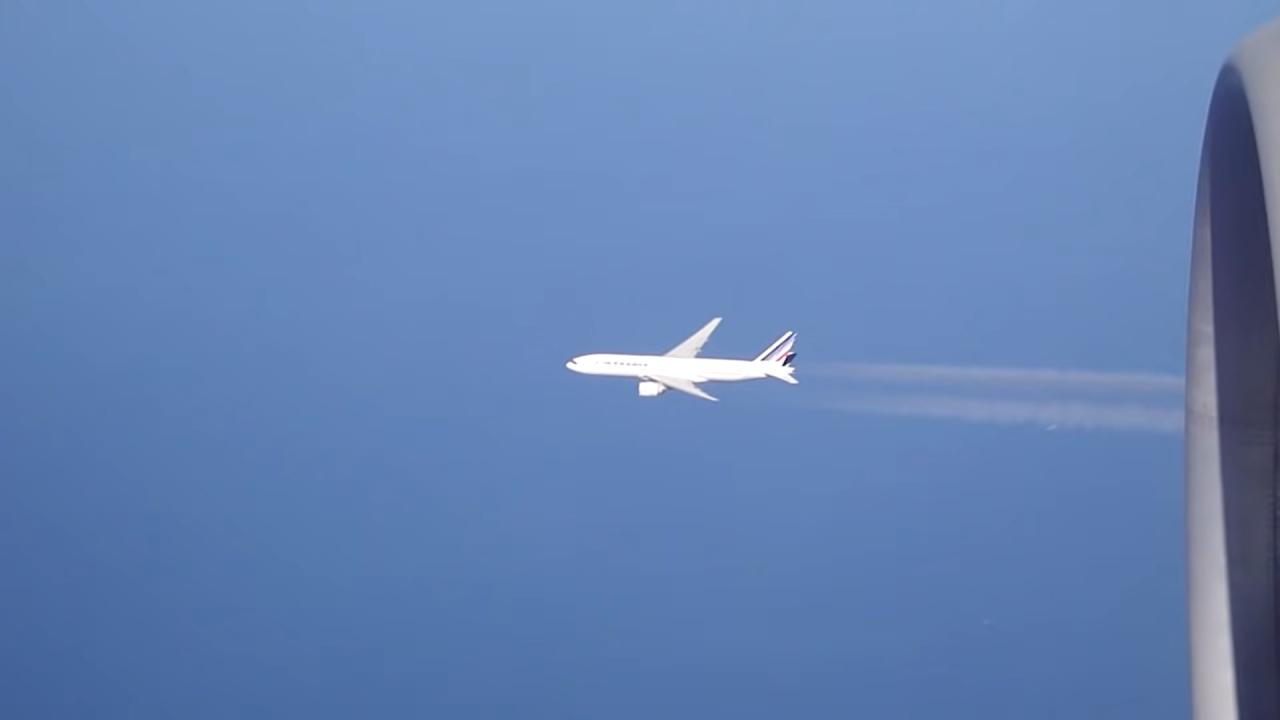Airplane: (552, 305, 818, 421)
